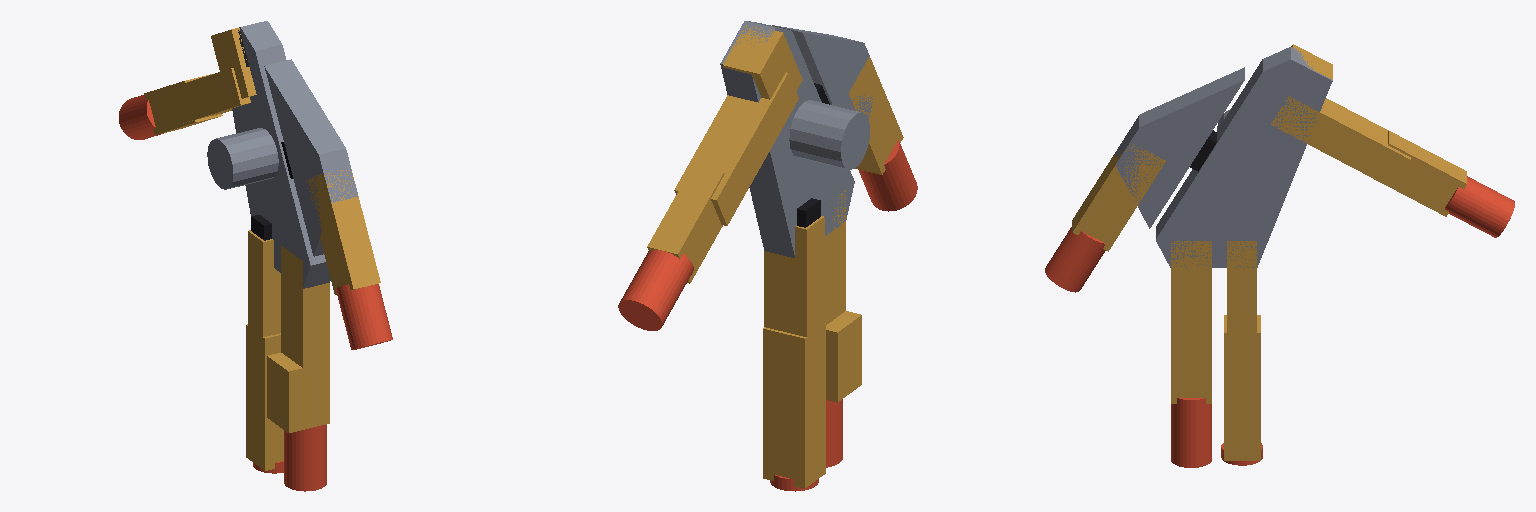
The robot description file, URDF, robot "g0050_c03":
<robot name="g0050_c03">
  <link name="palm">
    <visual name="palm_palm1">
      <origin xyz="0 0 0" rpy="0 0 0" />
      <geometry>
        <mesh filename="palm_palm1.obj" />
      </geometry>
      <material name="palm_palm1_mat">
        <color rgba="0.55 0.57 0.62 1" />
      </material>
    </visual>
    <collision>
      <origin xyz="0 0 0" rpy="0 0 0" />
      <geometry>
        <mesh filename="palm_palm1.obj" />
      </geometry>
    </collision>
    <visual name="palm_mount2">
      <origin xyz="0 0 0" rpy="0 0 0" />
      <geometry>
        <mesh filename="palm_mount2.obj" />
      </geometry>
      <material name="palm_mount2_mat">
        <color rgba="0.55 0.57 0.62 1" />
      </material>
    </visual>
    <collision>
      <origin xyz="0 0 0" rpy="0 0 0" />
      <geometry>
        <mesh filename="palm_mount2.obj" />
      </geometry>
    </collision>
    <visual name="palm_hinge3">
      <origin xyz="0 -0.0244855716 0.00258974596" rpy="-1.57079633 -1.04719755 1.57079633" />
      <geometry>
        <box size="0.029 0.034 0.02" />
      </geometry>
      <material name="palm_hinge3_mat">
        <color rgba="0.15 0.15 0.17 1" />
      </material>
    </visual>
    <collision>
      <origin xyz="0 -0.0244855716 0.00258974596" rpy="-1.57079633 -1.04719755 1.57079633" />
      <geometry>
        <box size="0.029 0.034 0.02" />
      </geometry>
    </collision>
    <visual name="palm_motor4">
      <origin xyz="0 -0.04 -0.0725" rpy="1.57079633 1.2246468e-16 -1.57079633" />
      <geometry>
        <box size="0.029 0.034 0.02" />
      </geometry>
      <material name="palm_motor4_mat">
        <color rgba="0.15 0.15 0.17 1" />
      </material>
    </visual>
    <collision>
      <origin xyz="0 -0.04 -0.0725" rpy="1.57079633 1.2246468e-16 -1.57079633" />
      <geometry>
        <box size="0.029 0.034 0.02" />
      </geometry>
    </collision>
    <visual name="palm_motor5">
      <origin xyz="-0.0045 -9.18485099e-19 -0.0725" rpy="1.57079633 7.49879891e-33 -6.123234e-17" />
      <geometry>
        <box size="0.029 0.034 0.02" />
      </geometry>
      <material name="palm_motor5_mat">
        <color rgba="0.15 0.15 0.17 1" />
      </material>
    </visual>
    <collision>
      <origin xyz="-0.0045 -9.18485099e-19 -0.0725" rpy="1.57079633 7.49879891e-33 -6.123234e-17" />
      <geometry>
        <box size="0.029 0.034 0.02" />
      </geometry>
    </collision>
    <visual name="palm_motor6">
      <origin xyz="-0.0045 0.0467548095 0.0666996732" rpy="1.57079633 1.04719755 -1.57079633" />
      <geometry>
        <box size="0.029 0.034 0.02" />
      </geometry>
      <material name="palm_motor6_mat">
        <color rgba="0.15 0.15 0.17 1" />
      </material>
    </visual>
    <collision>
      <origin xyz="-0.0045 0.0467548095 0.0666996732" rpy="1.57079633 1.04719755 -1.57079633" />
      <geometry>
        <box size="0.029 0.034 0.02" />
      </geometry>
    </collision>
    <inertial>
      <origin xyz="-4.56140445e-19 0.00385766606 -0.00982397118" rpy="-1.57079633 1.09456817 -1.57079633" />
      <mass value="0.541612301" />
      <inertia ixx="0.000238292932" ixy="0" ixz="0" iyy="0.00162040713" iyz="0" izz="0.00180670528" />
    </inertial>
  </link>
  <link name="palm0">
    <visual name="palm0_palm1">
      <origin xyz="0 0 0" rpy="0 0 0" />
      <geometry>
        <mesh filename="palm0_palm1.obj" />
      </geometry>
      <material name="palm0_palm1_mat">
        <color rgba="0.55 0.57 0.62 1" />
      </material>
    </visual>
    <collision>
      <origin xyz="0 0 0" rpy="0 0 0" />
      <geometry>
        <mesh filename="palm0_palm1.obj" />
      </geometry>
    </collision>
    <visual name="palm0_motor2">
      <origin xyz="0 -0.0452692379 0.000155444566" rpy="1.57079633 -0.523598776 -1.57079633" />
      <geometry>
        <box size="0.029 0.034 0.02" />
      </geometry>
      <material name="palm0_motor2_mat">
        <color rgba="0.15 0.15 0.17 1" />
      </material>
    </visual>
    <collision>
      <origin xyz="0 -0.0452692379 0.000155444566" rpy="1.57079633 -0.523598776 -1.57079633" />
      <geometry>
        <box size="0.029 0.034 0.02" />
      </geometry>
    </collision>
    <inertial>
      <origin xyz="3.03272082e-19 -0.0264565801 0.00400711866" rpy="-1.57079633 0.952641493 -1.57079633" />
      <mass value="0.203654813" />
      <inertia ixx="4.78888572e-05" ixy="0" ixz="0" iyy="0.000222099939" iyz="0" izz="0.000250437934" />
    </inertial>
  </link>
  <link name="f0_link0">
    <visual name="f0_link0_link1">
      <origin xyz="0.03375 0 0" rpy="0 4.06369831e-17 0" />
      <geometry>
        <box size="0.0915 0.024 0.033" />
      </geometry>
      <material name="f0_link0_link1_mat">
        <color rgba="0.80 0.62 0.30 1" />
      </material>
    </visual>
    <collision>
      <origin xyz="0.03375 0 0" rpy="0 4.06369831e-17 0" />
      <geometry>
        <box size="0.0915 0.024 0.033" />
      </geometry>
    </collision>
    <inertial>
      <origin xyz="0.03375 0 0" rpy="0 0 0" />
      <mass value="0.126819" />
      <inertia ixx="1.75961363e-05" ixy="0" ixz="0" iyy="9.99888553e-05" iyz="0" izz="9.45673431e-05" />
    </inertial>
  </link>
  <link name="f0_link1">
    <visual name="f0_link1_link1">
      <origin xyz="0.029 0 -6.9388939e-18" rpy="-1.57079633 -0 -1.57079633" />
      <geometry>
        <cylinder radius="0.0165" length="0.049" />
      </geometry>
      <material name="f0_link1_link1_mat">
        <color rgba="0.85 0.35 0.25 1" />
      </material>
    </visual>
    <collision>
      <origin xyz="0.029 0 -6.9388939e-18" rpy="-1.57079633 -0 -1.57079633" />
      <geometry>
        <cylinder radius="0.0165" length="0.049" />
      </geometry>
    </collision>
    <inertial>
      <origin xyz="0.029 0 0" rpy="0 0 0" />
      <mass value="0.106270851" />
      <inertia ixx="1.35696277e-05" ixy="0" ixz="0" iyy="5.30015704e-05" iyz="0" izz="5.30015704e-05" />
    </inertial>
  </link>
  <link name="f1_link0">
    <visual name="f1_link0_link1">
      <origin xyz="0.04375 0 0" rpy="0 -0 0" />
      <geometry>
        <box size="0.1115 0.024 0.033" />
      </geometry>
      <material name="f1_link0_link1_mat">
        <color rgba="0.80 0.62 0.30 1" />
      </material>
    </visual>
    <collision>
      <origin xyz="0.04375 0 0" rpy="0 -0 0" />
      <geometry>
        <box size="0.1115 0.024 0.033" />
      </geometry>
    </collision>
    <inertial>
      <origin xyz="0.04375 0 0" rpy="0 0 0" />
      <mass value="0.154539" />
      <inertia ixx="2.14422863e-05" ixy="0" ixz="0" iyy="0.000174130038" iyz="0" izz="0.000167523496" />
    </inertial>
  </link>
  <link name="f1_link1">
    <visual name="f1_link1_link1">
      <origin xyz="0.014 -0.00625 0" rpy="0 -0 0" />
      <geometry>
        <box size="0.052 0.0365 0.033" />
      </geometry>
      <material name="f1_link1_link1_mat">
        <color rgba="0.80 0.62 0.30 1" />
      </material>
    </visual>
    <collision>
      <origin xyz="0.014 -0.00625 0" rpy="0 -0 0" />
      <geometry>
        <box size="0.052 0.0365 0.033" />
      </geometry>
    </collision>
    <inertial>
      <origin xyz="0.014 -0.00625 0" rpy="0 0 0" />
      <mass value="0.1096095" />
      <inertia ixx="2.21160002e-05" ixy="0" ixz="0" iyy="3.46457361e-05" iyz="0" izz="3.6867612e-05" />
    </inertial>
  </link>
  <link name="f1_link2">
    <visual name="f1_link2_link1">
      <origin xyz="0.034 0 0" rpy="-1.57079633 -0 -1.57079633" />
      <geometry>
        <cylinder radius="0.0165" length="0.059" />
      </geometry>
      <material name="f1_link2_link1_mat">
        <color rgba="0.85 0.35 0.25 1" />
      </material>
    </visual>
    <collision>
      <origin xyz="0.034 0 0" rpy="-1.57079633 -0 -1.57079633" />
      <geometry>
        <cylinder radius="0.0165" length="0.059" />
      </geometry>
    </collision>
    <inertial>
      <origin xyz="0.034 0 0" rpy="0 0 0" />
      <mass value="0.121238577" />
      <inertia ixx="1.56071093e-05" ixy="0" ixz="0" iyy="7.58912764e-05" iyz="0" izz="7.58912764e-05" />
    </inertial>
  </link>
  <link name="f2_link0">
    <visual name="f2_link0_link1">
      <origin xyz="0.03875 0 1.54074396e-33" rpy="0 -0 0" />
      <geometry>
        <box size="0.1015 0.033 0.024" />
      </geometry>
      <material name="f2_link0_link1_mat">
        <color rgba="0.80 0.62 0.30 1" />
      </material>
    </visual>
    <collision>
      <origin xyz="0.03875 0 1.54074396e-33" rpy="0 -0 0" />
      <geometry>
        <box size="0.1015 0.033 0.024" />
      </geometry>
    </collision>
    <inertial>
      <origin xyz="0.03875 0 0" rpy="0 0 0" />
      <mass value="0.140679" />
      <inertia ixx="1.95192113e-05" ixy="0" ixz="0" iyy="0.000127528444" iyz="0" izz="0.000133542472" />
    </inertial>
  </link>
  <link name="f2_link1">
    <visual name="f2_link1_link1">
      <origin xyz="0.04375 0 1.54074396e-33" rpy="0 -0 0" />
      <geometry>
        <box size="0.1115 0.033 0.029" />
      </geometry>
      <material name="f2_link1_link1_mat">
        <color rgba="0.80 0.62 0.30 1" />
      </material>
    </visual>
    <collision>
      <origin xyz="0.04375 0 1.54074396e-33" rpy="0 -0 0" />
      <geometry>
        <box size="0.1115 0.033 0.029" />
      </geometry>
    </collision>
    <inertial>
      <origin xyz="0.04375 0 0" rpy="0 0 0" />
      <mass value="0.186734625" />
      <inertia ixx="3.00331522e-05" ixy="0" ixz="0" iyy="0.000206547947" iyz="0" izz="0.000210407129" />
    </inertial>
  </link>
  <link name="f2_link2">
    <visual name="f2_link2_link1">
      <origin xyz="0.009 0 1.54074396e-33" rpy="-1.57079633 -0 -1.57079633" />
      <geometry>
        <cylinder radius="0.0165" length="0.009" />
      </geometry>
      <material name="f2_link2_link1_mat">
        <color rgba="0.85 0.35 0.25 1" />
      </material>
    </visual>
    <collision>
      <origin xyz="0.009 0 1.54074396e-33" rpy="-1.57079633 -0 -1.57079633" />
      <geometry>
        <cylinder radius="0.0165" length="0.009" />
      </geometry>
    </collision>
    <inertial>
      <origin xyz="0.009 0 0" rpy="0 0 0" />
      <mass value="0.046399949" />
      <inertia ixx="5.41970115e-06" ixy="0" ixz="0" iyy="7.09430898e-06" iyz="0" izz="7.09430898e-06" />
    </inertial>
  </link>
  <link name="f3_link0">
    <visual name="f3_link0_link1">
      <origin xyz="-0.00625 0 -0.0165" rpy="0 2.57628149e-17 0" />
      <geometry>
        <box size="0.0365 0.029 0.053" />
      </geometry>
      <material name="f3_link0_link1_mat">
        <color rgba="0.80 0.62 0.30 1" />
      </material>
    </visual>
    <collision>
      <origin xyz="-0.00625 0 -0.0165" rpy="0 2.57628149e-17 0" />
      <geometry>
        <box size="0.0365 0.029 0.053" />
      </geometry>
    </collision>
    <inertial>
      <origin xyz="-0.00625 0 -0.0165" rpy="0 0 0" />
      <mass value="0.098175875" />
      <inertia ixx="2.98618286e-05" ixy="0" ixz="0" iyy="3.38809035e-05" iyz="0" izz="1.778006e-05" />
    </inertial>
  </link>
  <link name="f3_link1">
    <visual name="f3_link1_link1">
      <origin xyz="0.04375 0 6.9388939e-18" rpy="0 2.57628149e-17 0" />
      <geometry>
        <box size="0.1115 0.033 0.029" />
      </geometry>
      <material name="f3_link1_link1_mat">
        <color rgba="0.80 0.62 0.30 1" />
      </material>
    </visual>
    <collision>
      <origin xyz="0.04375 0 6.9388939e-18" rpy="0 2.57628149e-17 0" />
      <geometry>
        <box size="0.1115 0.033 0.029" />
      </geometry>
    </collision>
    <inertial>
      <origin xyz="0.04375 0 0" rpy="0 0 0" />
      <mass value="0.186734625" />
      <inertia ixx="3.00331522e-05" ixy="0" ixz="0" iyy="0.000206547947" iyz="0" izz="0.000210407129" />
    </inertial>
  </link>
  <link name="f3_link2">
    <visual name="f3_link2_link1">
      <origin xyz="0.02375 0 6.9388939e-18" rpy="0 2.57628149e-17 0" />
      <geometry>
        <box size="0.0715 0.024 0.033" />
      </geometry>
      <material name="f3_link2_link1_mat">
        <color rgba="0.80 0.62 0.30 1" />
      </material>
    </visual>
    <collision>
      <origin xyz="0.02375 0 6.9388939e-18" rpy="0 2.57628149e-17 0" />
      <geometry>
        <box size="0.0715 0.024 0.033" />
      </geometry>
    </collision>
    <inertial>
      <origin xyz="0.02375 0 0" rpy="0 0 0" />
      <mass value="0.099099" />
      <inertia ixx="1.37499863e-05" ixy="0" ixz="0" iyy="5.12114728e-05" iyz="0" izz="4.69749906e-05" />
    </inertial>
  </link>
  <link name="f3_link3">
    <visual name="f3_link3_link1">
      <origin xyz="0.029 0 0" rpy="-1.57079633 -0 -1.57079633" />
      <geometry>
        <cylinder radius="0.0165" length="0.049" />
      </geometry>
      <material name="f3_link3_link1_mat">
        <color rgba="0.85 0.35 0.25 1" />
      </material>
    </visual>
    <collision>
      <origin xyz="0.029 0 0" rpy="-1.57079633 -0 -1.57079633" />
      <geometry>
        <cylinder radius="0.0165" length="0.049" />
      </geometry>
    </collision>
    <inertial>
      <origin xyz="0.029 0 0" rpy="0 0 0" />
      <mass value="0.106270851" />
      <inertia ixx="1.35696277e-05" ixy="0" ixz="0" iyy="5.30015704e-05" iyz="0" izz="5.30015704e-05" />
    </inertial>
  </link>
  <joint name="palm0_joint" type="revolute">
    <parent link="palm" />
    <child link="palm0" />
    <origin xyz="0 -0.0309807621 0.00633974596" rpy="0 0 0" />
    <axis xyz="0 0.5 0.866025404" />
    <limit effort="0.5" lower="-0.523598776" upper="0.523598776" velocity="5" />
    <dynamics damping="0.0775033" friction="0" />
  </joint>
  <joint name="f0_j0" type="revolute">
    <parent link="palm0" />
    <child link="f0_link0" />
    <origin xyz="0 -0.0490192379 -0.00633974596" rpy="0 1.04719755 -1.57079633" />
    <axis xyz="0 0 1" />
    <limit effort="0.5" lower="-0.523598776" upper="1.57079633" velocity="5" />
    <dynamics damping="0.0775033" friction="0" />
  </joint>
  <joint name="f0_j1" type="revolute">
    <parent link="f0_link0" />
    <child link="f0_link1" />
    <origin xyz="0.07 0 0" rpy="0 0 0" />
    <axis xyz="0 0 1" />
    <limit effort="0.5" lower="-0.523598776" upper="1.57079633" velocity="5" />
    <dynamics damping="0.0775033" friction="0" />
  </joint>
  <joint name="f1_j0" type="revolute">
    <parent link="palm" />
    <child link="f1_link0" />
    <origin xyz="0 -0.04 -0.08" rpy="1.57079633 1.57079633 0" />
    <axis xyz="0 0 1" />
    <limit effort="0.5" lower="-0.523598776" upper="1.57079633" velocity="5" />
    <dynamics damping="0.0775033" friction="0" />
  </joint>
  <joint name="f1_j1" type="revolute">
    <parent link="f1_link0" />
    <child link="f1_link1" />
    <origin xyz="0.09 0 0" rpy="0 0 0" />
    <axis xyz="0 0 1" />
    <limit effort="0.5" lower="-0.523598776" upper="1.57079633" velocity="5" />
    <dynamics damping="0.0775033" friction="0" />
  </joint>
  <joint name="f1_j2" type="revolute">
    <parent link="f1_link1" />
    <child link="f1_link2" />
    <origin xyz="0.03 0 0" rpy="0 0 0" />
    <axis xyz="0 0 1" />
    <limit effort="0.5" lower="-0.523598776" upper="1.57079633" velocity="5" />
    <dynamics damping="0.0775033" friction="0" />
  </joint>
  <joint name="f2_j0" type="revolute">
    <parent link="palm" />
    <child link="f2_link0" />
    <origin xyz="-0.0045 0 -0.08" rpy="1.57079633 1.57079633 0" />
    <axis xyz="0 1 6.123234e-17" />
    <limit effort="0.5" lower="-0.523598776" upper="0.523598776" velocity="5" />
    <dynamics damping="0.0775033" friction="0" />
  </joint>
  <joint name="f2_j1" type="revolute">
    <parent link="f2_link0" />
    <child link="f2_link1" />
    <origin xyz="0.08 0 0" rpy="0 0 0" />
    <axis xyz="0 1 6.123234e-17" />
    <limit effort="0.5" lower="-0.523598776" upper="0.523598776" velocity="5" />
    <dynamics damping="0.0775033" friction="0" />
  </joint>
  <joint name="f2_j2" type="revolute">
    <parent link="f2_link1" />
    <child link="f2_link2" />
    <origin xyz="0.09 0 0" rpy="0 0 0" />
    <axis xyz="0 0 1" />
    <limit effort="0.5" lower="-0.523598776" upper="1.57079633" velocity="5" />
    <dynamics damping="0.0775033" friction="0" />
  </joint>
  <joint name="f3_j0" type="revolute">
    <parent link="palm" />
    <child link="f3_link0" />
    <origin xyz="-0.0045 0.04 0.04" rpy="3.14159265 0.523598776 1.57079633" />
    <axis xyz="0 0 1" />
    <limit effort="0.5" lower="-0.523598776" upper="1.57079633" velocity="5" />
    <dynamics damping="0.0775033" friction="0" />
  </joint>
  <joint name="f3_j1" type="revolute">
    <parent link="f3_link0" />
    <child link="f3_link1" />
    <origin xyz="0 0 0" rpy="0 0 0" />
    <axis xyz="0 1 6.123234e-17" />
    <limit effort="0.5" lower="-0.523598776" upper="0.523598776" velocity="5" />
    <dynamics damping="0.0775033" friction="0" />
  </joint>
  <joint name="f3_j2" type="revolute">
    <parent link="f3_link1" />
    <child link="f3_link2" />
    <origin xyz="0.09 0 0" rpy="0 0 0" />
    <axis xyz="0 0 1" />
    <limit effort="0.5" lower="-0.523598776" upper="1.57079633" velocity="5" />
    <dynamics damping="0.0775033" friction="0" />
  </joint>
  <joint name="f3_j3" type="revolute">
    <parent link="f3_link2" />
    <child link="f3_link3" />
    <origin xyz="0.05 0 0" rpy="0 0 0" />
    <axis xyz="0 0 1" />
    <limit effort="0.5" lower="-0.523598776" upper="1.57079633" velocity="5" />
    <dynamics damping="0.0775033" friction="0" />
  </joint>
</robot>

--- Facts derived from the render (not from the file) ---
The picture shows the robot from 3 angles, left to right: view 1: azimuth 30°, elevation 25°; view 2: azimuth 150°, elevation 25°; view 3: azimuth 270°, elevation 25°; orthographic projection.
Robot: g0050_c03 — 14 links, 13 joints (13 revolute); root link palm; default pose: every joint at zero.
Links seen in each view (by area): view 1: palm, palm0, f1_link0, f0_link0, f2_link1, f1_link1, f2_link0, f3_link1, f0_link1, f1_link2, f3_link0, f3_link3 (+1 smaller); view 2: palm, f2_link1, f3_link1, f2_link0, f3_link2, f3_link3, palm0, f3_link0, f0_link0, f1_link1, f0_link1, f1_link0 (+1 smaller); view 3: palm, palm0, f3_link1, f1_link0, f2_link1, f0_link0, f2_link0, f3_link2, f1_link2, f3_link3, f0_link1, f1_link1.
Link boxes in pixels (<box>): palm: <box>207,21,330,288</box>; palm0: <box>264,59,357,256</box>; f1_link0: <box>281,246,329,392</box>; f0_link0: <box>306,170,380,294</box>; f2_link1: <box>246,324,283,470</box>; f1_link1: <box>267,353,329,432</box>; f2_link0: <box>248,230,280,336</box>; f3_link1: <box>168,68,250,124</box>; f0_link1: <box>335,284,392,349</box>; f1_link2: <box>284,424,326,491</box>; f3_link0: <box>211,28,256,98</box>; f3_link3: <box>119,95,163,139</box>; palm: <box>720,21,869,257</box>; f2_link1: <box>763,323,825,488</box>; f3_link1: <box>674,72,798,225</box>; f2_link0: <box>764,216,824,365</box>; f3_link2: <box>647,165,724,283</box>; f3_link3: <box>618,250,693,330</box>; palm0: <box>772,25,872,166</box>; f3_link0: <box>723,25,802,99</box>; f0_link0: <box>849,56,903,174</box>; f1_link1: <box>826,311,861,402</box>; f0_link1: <box>858,139,917,211</box>; f1_link0: <box>825,190,845,324</box>; palm: <box>1156,47,1332,267</box>; palm0: <box>1115,67,1244,228</box>; f3_link1: <box>1271,96,1410,188</box>; f1_link0: <box>1171,241,1211,368</box>; f2_link1: <box>1224,315,1260,460</box>; f0_link0: <box>1072,142,1165,251</box>; f2_link0: <box>1227,241,1256,357</box>; f3_link2: <box>1374,131,1466,216</box>; f1_link2: <box>1171,398,1211,467</box>; f3_link3: <box>1445,176,1514,237</box>; f0_link1: <box>1045,227,1105,292</box>; f1_link1: <box>1171,345,1211,403</box>.
Bounding box of the posed robot: 0.0685 × 0.3719 × 0.354 m (x, y, z).
3 mesh visuals loaded from 3 distinct referenced files (3 OBJ).
